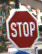stopsign: (7, 9, 39, 50)
